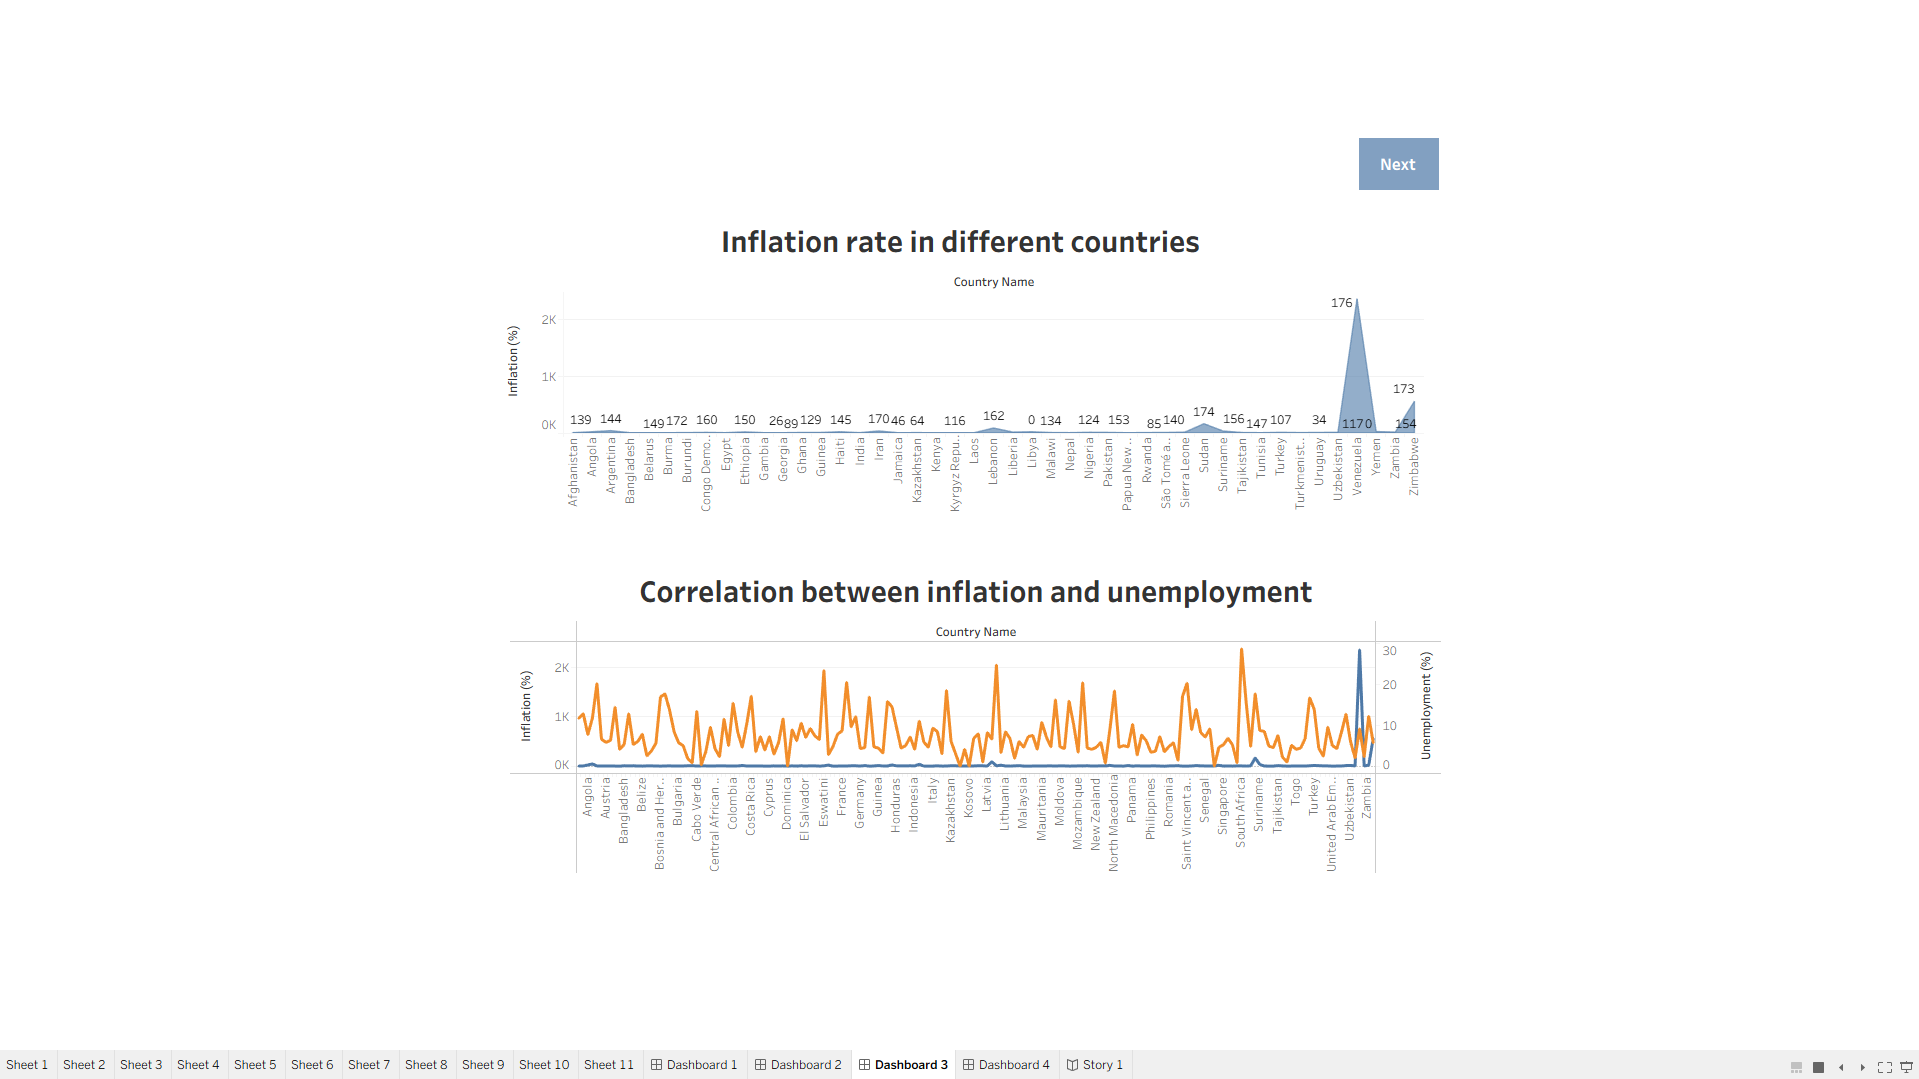

The dashboard page shown, as its layout file describes it:
{"tool":"tableau","page":{"name":"Dashboard 3","canvas":[1000,800],"ordinal":2},"visuals":[{"type":"dashboard-object","box":[899,13,80,52]},{"type":"worksheet","title":"Sheet 8","mark":"Area","rows":["Inflation (%)"],"cols":["Country Name"],"box":[37,91,927,297]},{"type":"worksheet","title":"Sheet 9","mark":"Line","rows":["Inflation (%)","Unemployment (%)"],"cols":["Country Name"],"box":[50,441,932,308]}]}

Visuals, with their boxes on the page's 1000x800 design canvas (x1, y1, x2, y2). These are canvas units, not pixel positions in the 1919x1079 screenshot, which may show the page scaled, cropped or inside an application window:
dashboard-object: [x1=899, y1=13, x2=979, y2=65]
"Sheet 8" worksheet (Area marks): [x1=37, y1=91, x2=964, y2=388]
"Sheet 9" worksheet (Line marks): [x1=50, y1=441, x2=982, y2=749]
